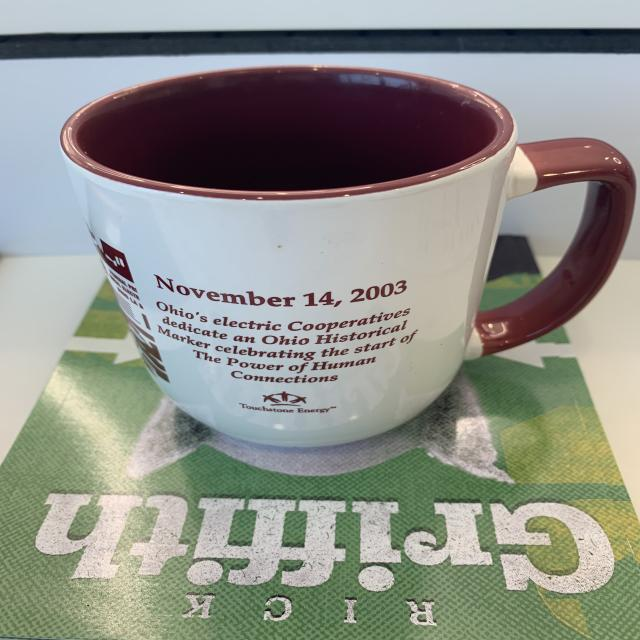Cup: (63, 64, 636, 452)
